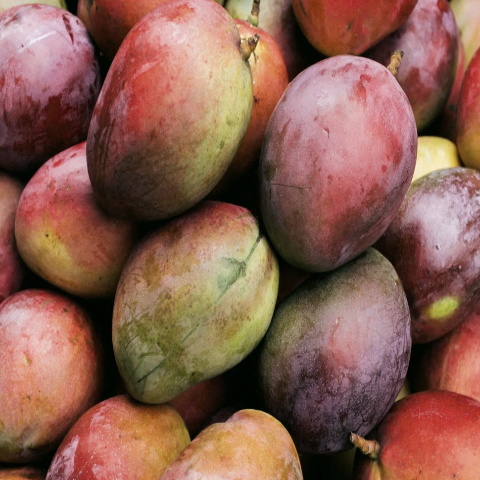mango: (65, 0, 271, 231), (257, 26, 422, 275), (90, 199, 299, 394), (251, 243, 421, 459)
